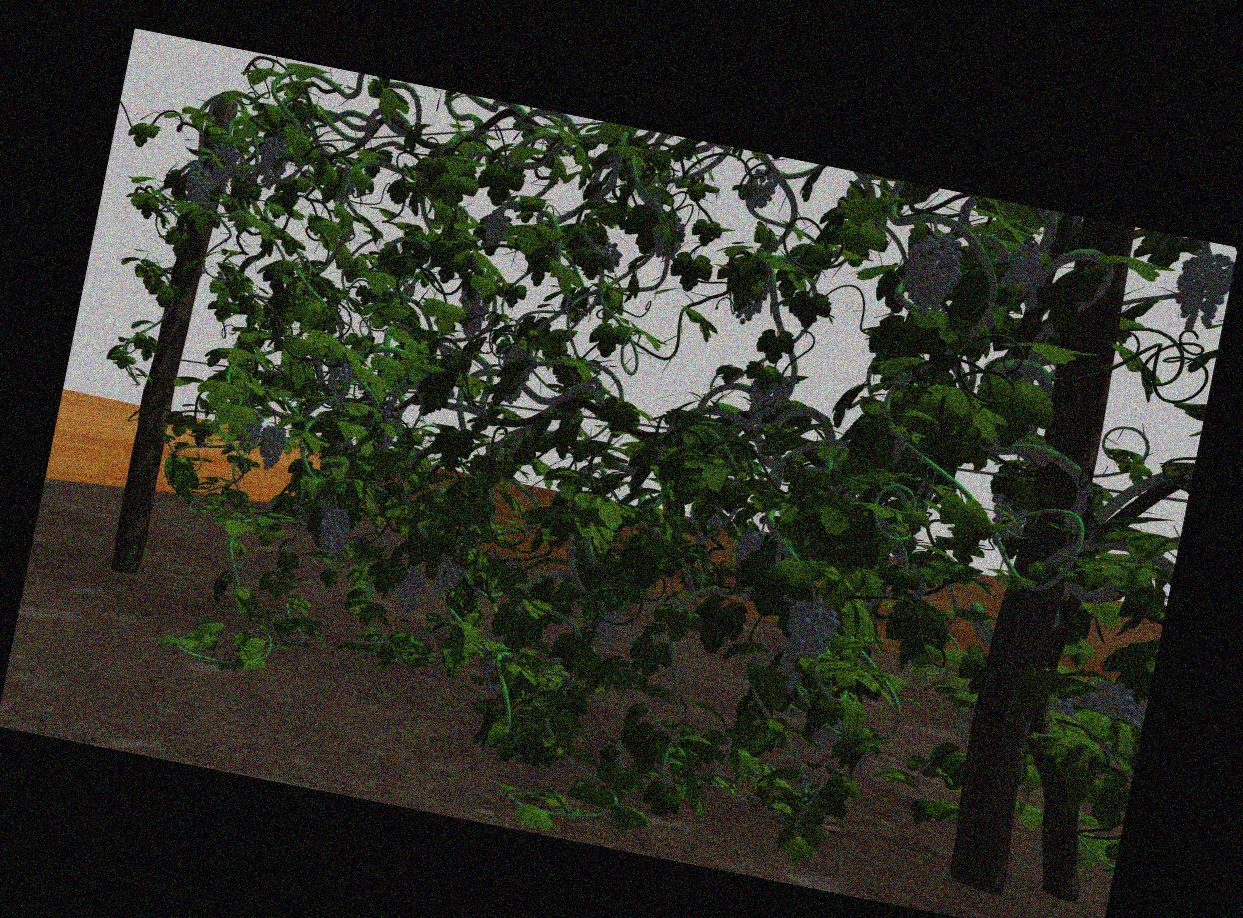grape: (901, 233, 962, 318), (1175, 250, 1225, 333), (786, 601, 840, 654), (1081, 682, 1143, 720), (999, 241, 1045, 292), (747, 373, 788, 424), (317, 506, 349, 565), (256, 136, 287, 190), (456, 287, 488, 339), (392, 568, 424, 614), (208, 142, 237, 186), (258, 425, 286, 470), (587, 609, 619, 648), (743, 172, 774, 209), (326, 358, 354, 398), (185, 165, 213, 205), (483, 207, 509, 246), (433, 558, 461, 594), (236, 418, 261, 452), (597, 240, 624, 265)
